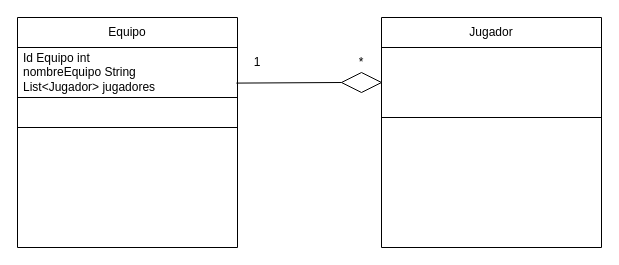
The diagram is 619 pixels wide and 265 high, and some of its shapes have lost their labels. The centre of each missing label's shape, as x and y in pixels:
"AñadirJugador(Jugador jugador): void" goes at pixel 127 112.
"Id Jugador int nombreJugador String apellidoJugador String equipoInscrito Equipo" goes at pixel 491 82.
